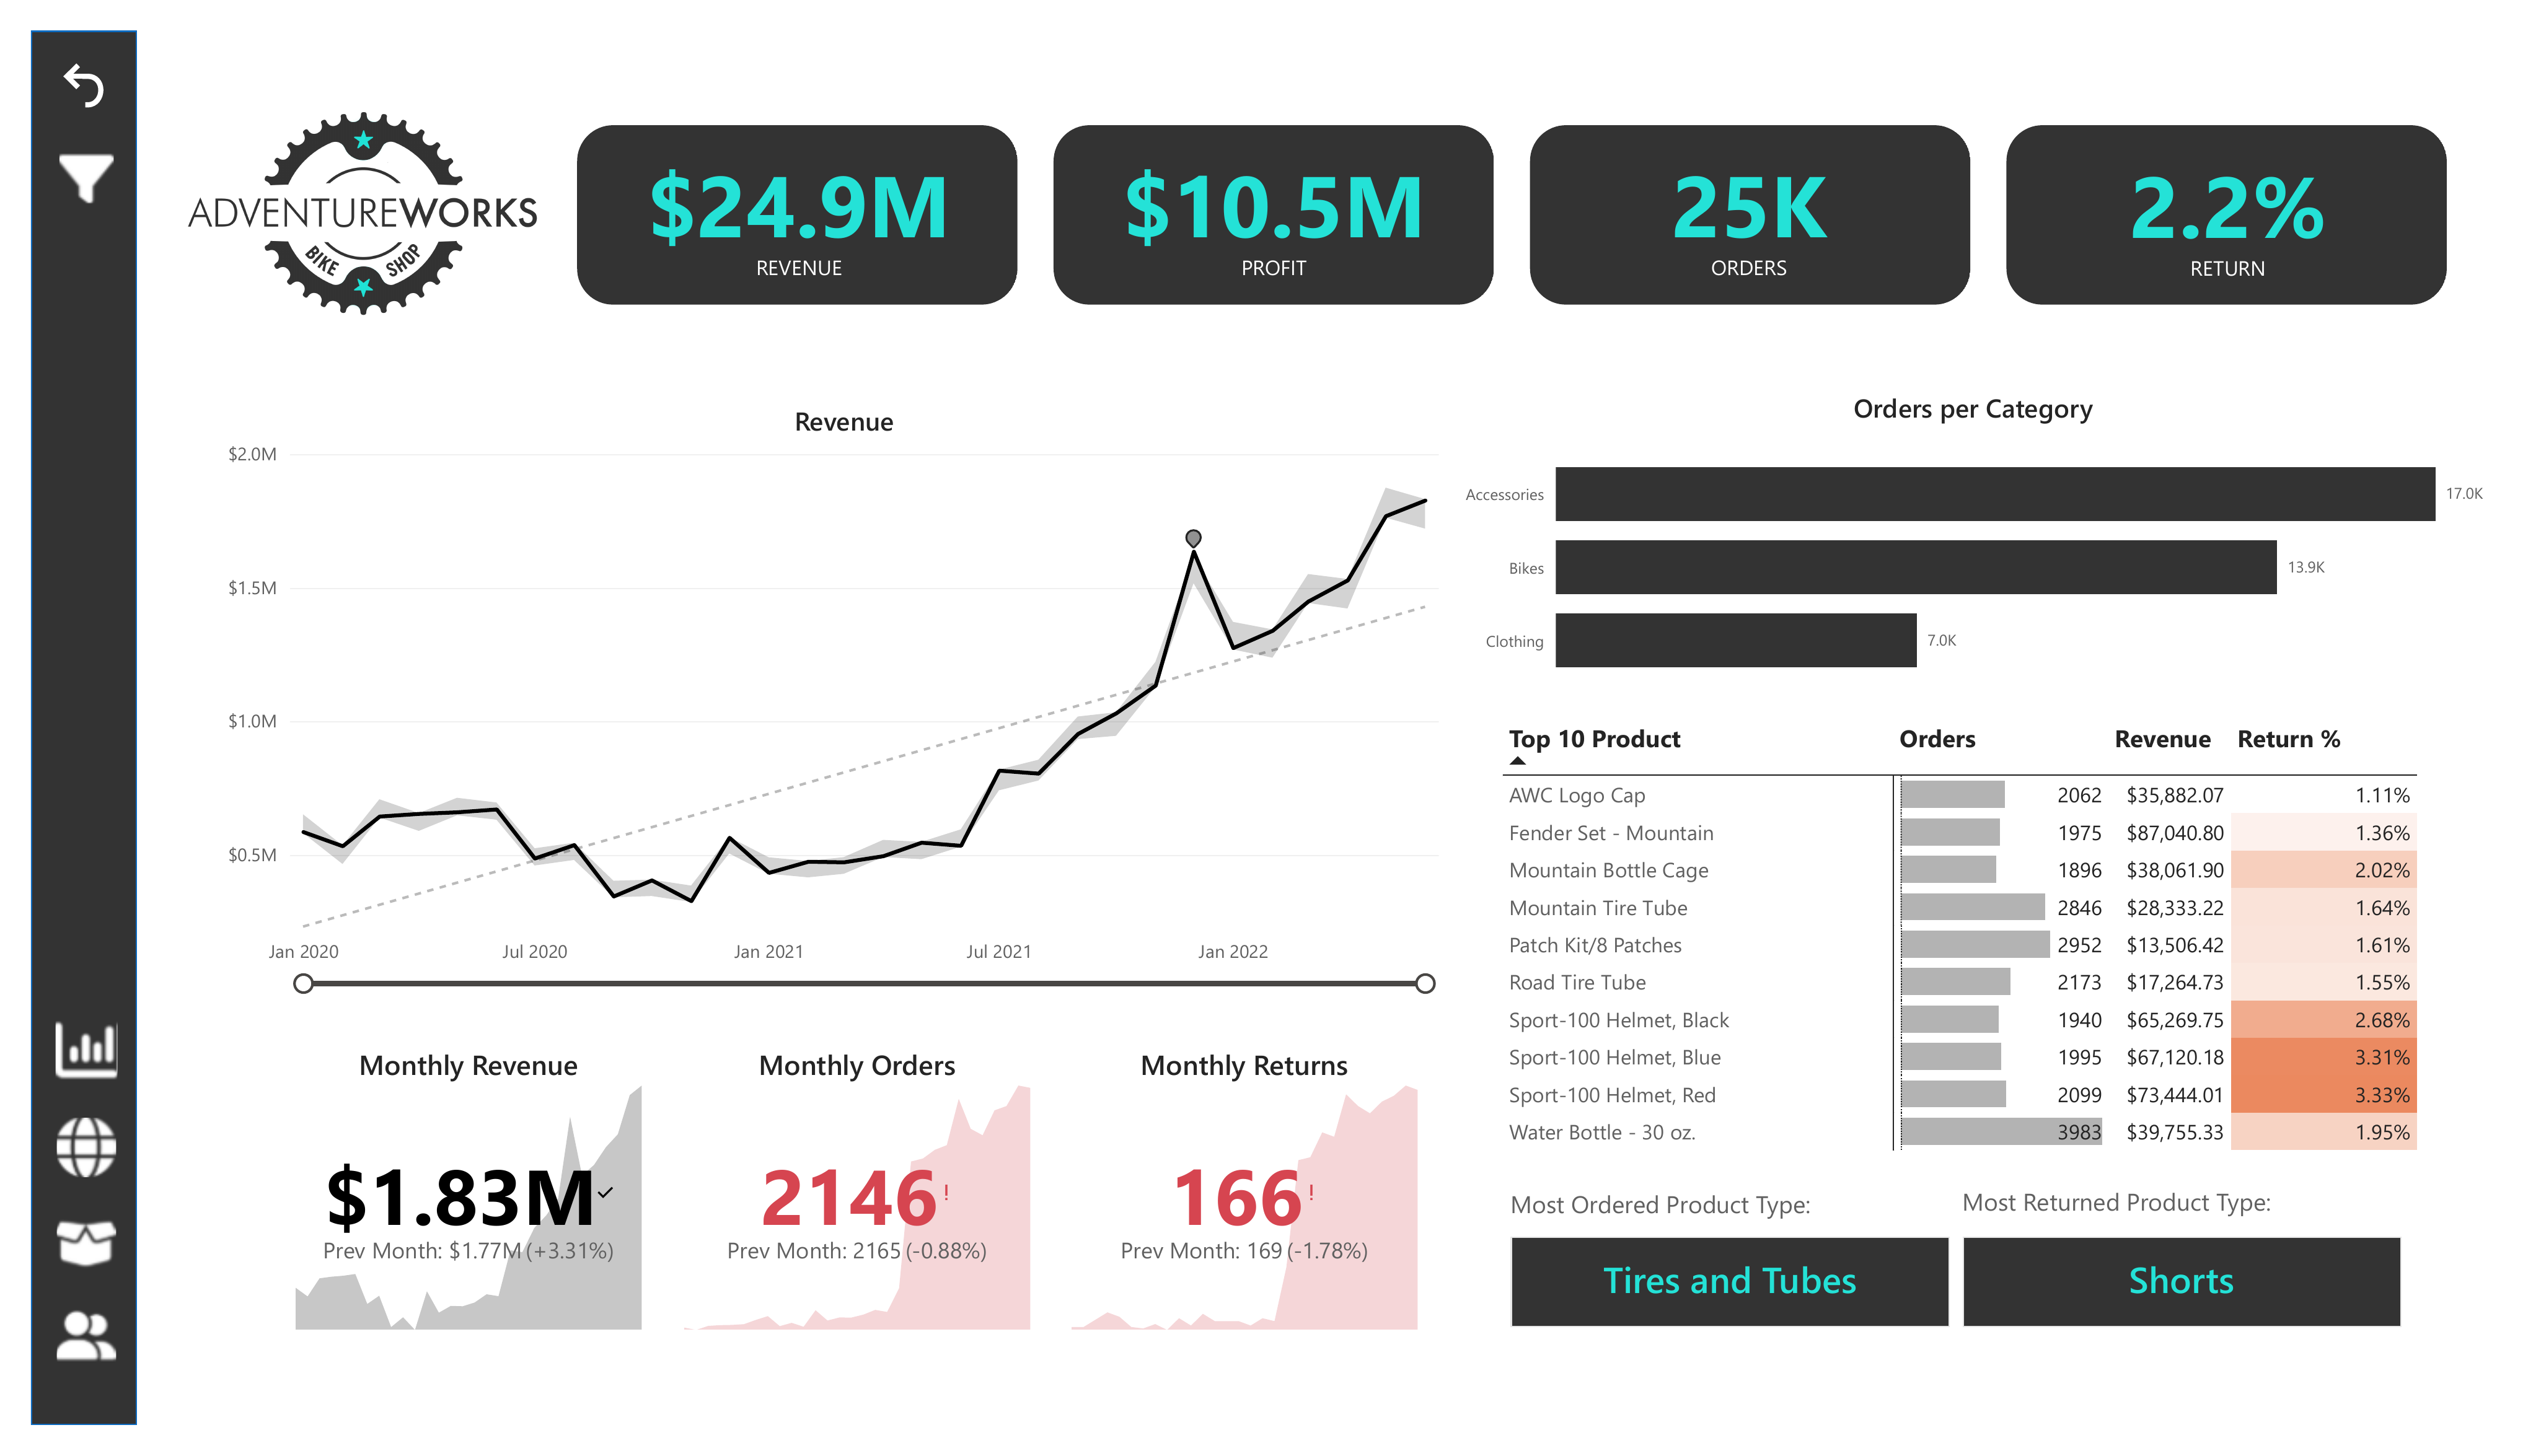

What the dashboard file says about the page in this screenshot:
{"tool":"powerbi","page":{"name":"Exec Dashboard","canvas":[1920,1080],"ordinal":0},"visuals":[{"type":"image","title":"AW Logo","box":[91.7,39.4,331.8,204.5],"z":0},{"type":"shape","box":[423.5,73.5,340.9,138.6],"z":0,"group":"g1"},{"type":"actionButton","box":[2,752.2,81.1,75],"z":0,"group":"g2"},{"type":"group","id":"g1","title":"KPI Background","box":[423.5,73.5,1447.7,138.6],"z":1000},{"type":"shape","box":[792.4,73.5,340.9,138.6],"z":1000,"group":"g1"},{"type":"actionButton","box":[2,827.2,81.1,75],"z":1000,"group":"g2"},{"type":"card","fields":{"Values":["Measure Table.Total Revenue"]},"box":[450,65,290,155],"z":2000},{"type":"shape","box":[1161.4,73.5,340.9,138.6],"z":2000,"group":"g1"},{"type":"actionButton","box":[2,902.2,81.1,75],"z":2000,"group":"g2"},{"type":"card","fields":{"Values":["Measure Table.Return Rate"]},"box":[1557.2,64.9,289.9,156.1],"z":3000},{"type":"shape","box":[1530.3,73.5,340.9,138.6],"z":3000,"group":"g1"},{"type":"actionButton","box":[2,973.2,81.1,75],"z":3000,"group":"g2"},{"type":"card","fields":{"Values":["Measure Table.Total Orders"]},"box":[1185.6,65,290,155],"z":4000},{"type":"card","fields":{"Values":["Measure Table.Total Profit"]},"box":[817.8,65,290,155],"z":5000},{"type":"lineChart","title":"Revenue","fields":{"Category":["Calendar Lookup.Start of Month"],"Y":["Measure Table.Total Revenue"]},"box":[136,274,988,486],"z":6000},{"type":"kpi","title":"Monthly Revenue","fields":{"Goal":["Measure Table.Previous Month Revenue"],"Indicator":["Measure Table.Total Revenue"],"TrendLine":["Calendar Lookup.Start of Month"]},"box":[188.6,772.2,300,250],"z":7000},{"type":"kpi","title":"Monthly Orders","fields":{"Goal":["Measure Table.Previous Month Orders"],"Indicator":["Measure Table.Total Orders"],"TrendLine":["Calendar Lookup.Start of Month"]},"box":[489.7,772.2,300,250],"z":8000},{"type":"kpi","title":"Monthly Returns","fields":{"Goal":["Measure Table.Previous Month Returns"],"Indicator":["Measure Table.Total Return"],"TrendLine":["Calendar Lookup.Start of Month"]},"box":[790,772.2,300,250],"z":9000},{"type":"clusteredBarChart","title":"Orders per Category","fields":{"Category":["Product Categories  Lookup.CategoryName"],"Y":["Measure Table.Total Orders"]},"box":[1090,263.8,829.2,270.7],"z":10000},{"type":"pivotTable","fields":{"Rows":["Product Lookup.ProductName"],"Values":["Measure Table.Total Orders","Measure Table.Total Revenue","Measure Table.Return Rate"]},"box":[1124.4,517.2,745.5,371.5],"z":11000},{"type":"card","fields":{"Values":["Min(Product Subcategories Lookup.SubcategoryName)"]},"box":[1146,934,340,70],"z":12000},{"type":"card","fields":{"Values":["Min(Product Subcategories Lookup.SubcategoryName)"]},"box":[1496,934,340,70],"z":13000},{"type":"textbox","box":[1145.6,895.7,328.5,30.4],"z":14000},{"type":"textbox","box":[1496.3,893.7,328.5,30.4],"z":15000},{"type":"shape","box":[0,0,81.8,1079.5],"z":16000},{"type":"actionButton","box":[0,10,82,64],"z":17000},{"type":"group","id":"g2","title":"Navigation Buttons","box":[2,752.2,81.1,296],"z":18000},{"type":"actionButton","box":[2,74,82,82],"z":19000}]}

Visuals, with their boxes on the page's 1920x1080 design canvas (x1, y1, x2, y2). These are canvas units, not pixel positions in the 2541x1456 screenshot, which may show the page scaled, cropped or inside an application window:
"AW Logo" image: pyautogui.locateOnScreen(92, 39, 424, 244)
shape: pyautogui.locateOnScreen(424, 74, 764, 212)
actionButton: pyautogui.locateOnScreen(2, 752, 83, 827)
"KPI Background" group: pyautogui.locateOnScreen(424, 74, 1871, 212)
shape: pyautogui.locateOnScreen(792, 74, 1133, 212)
actionButton: pyautogui.locateOnScreen(2, 827, 83, 902)
card - Measure Table.Total Revenue: pyautogui.locateOnScreen(450, 65, 740, 220)
shape: pyautogui.locateOnScreen(1161, 74, 1502, 212)
actionButton: pyautogui.locateOnScreen(2, 902, 83, 977)
card - Measure Table.Return Rate: pyautogui.locateOnScreen(1557, 65, 1847, 221)
shape: pyautogui.locateOnScreen(1530, 74, 1871, 212)
actionButton: pyautogui.locateOnScreen(2, 973, 83, 1048)
card - Measure Table.Total Orders: pyautogui.locateOnScreen(1186, 65, 1476, 220)
card - Measure Table.Total Profit: pyautogui.locateOnScreen(818, 65, 1108, 220)
"Revenue" lineChart: pyautogui.locateOnScreen(136, 274, 1124, 760)
"Monthly Revenue" kpi: pyautogui.locateOnScreen(189, 772, 489, 1022)
"Monthly Orders" kpi: pyautogui.locateOnScreen(490, 772, 790, 1022)
"Monthly Returns" kpi: pyautogui.locateOnScreen(790, 772, 1090, 1022)
"Orders per Category" clusteredBarChart: pyautogui.locateOnScreen(1090, 264, 1919, 534)
pivotTable - Product Lookup.ProductName x Measure Table.Total Orders: pyautogui.locateOnScreen(1124, 517, 1870, 889)
card - Min(Product Subcategories Lookup.SubcategoryName): pyautogui.locateOnScreen(1146, 934, 1486, 1004)
card - Min(Product Subcategories Lookup.SubcategoryName): pyautogui.locateOnScreen(1496, 934, 1836, 1004)
textbox: pyautogui.locateOnScreen(1146, 896, 1474, 926)
textbox: pyautogui.locateOnScreen(1496, 894, 1825, 924)
shape: pyautogui.locateOnScreen(0, 0, 82, 1080)
actionButton: pyautogui.locateOnScreen(0, 10, 82, 74)
"Navigation Buttons" group: pyautogui.locateOnScreen(2, 752, 83, 1048)
actionButton: pyautogui.locateOnScreen(2, 74, 84, 156)
